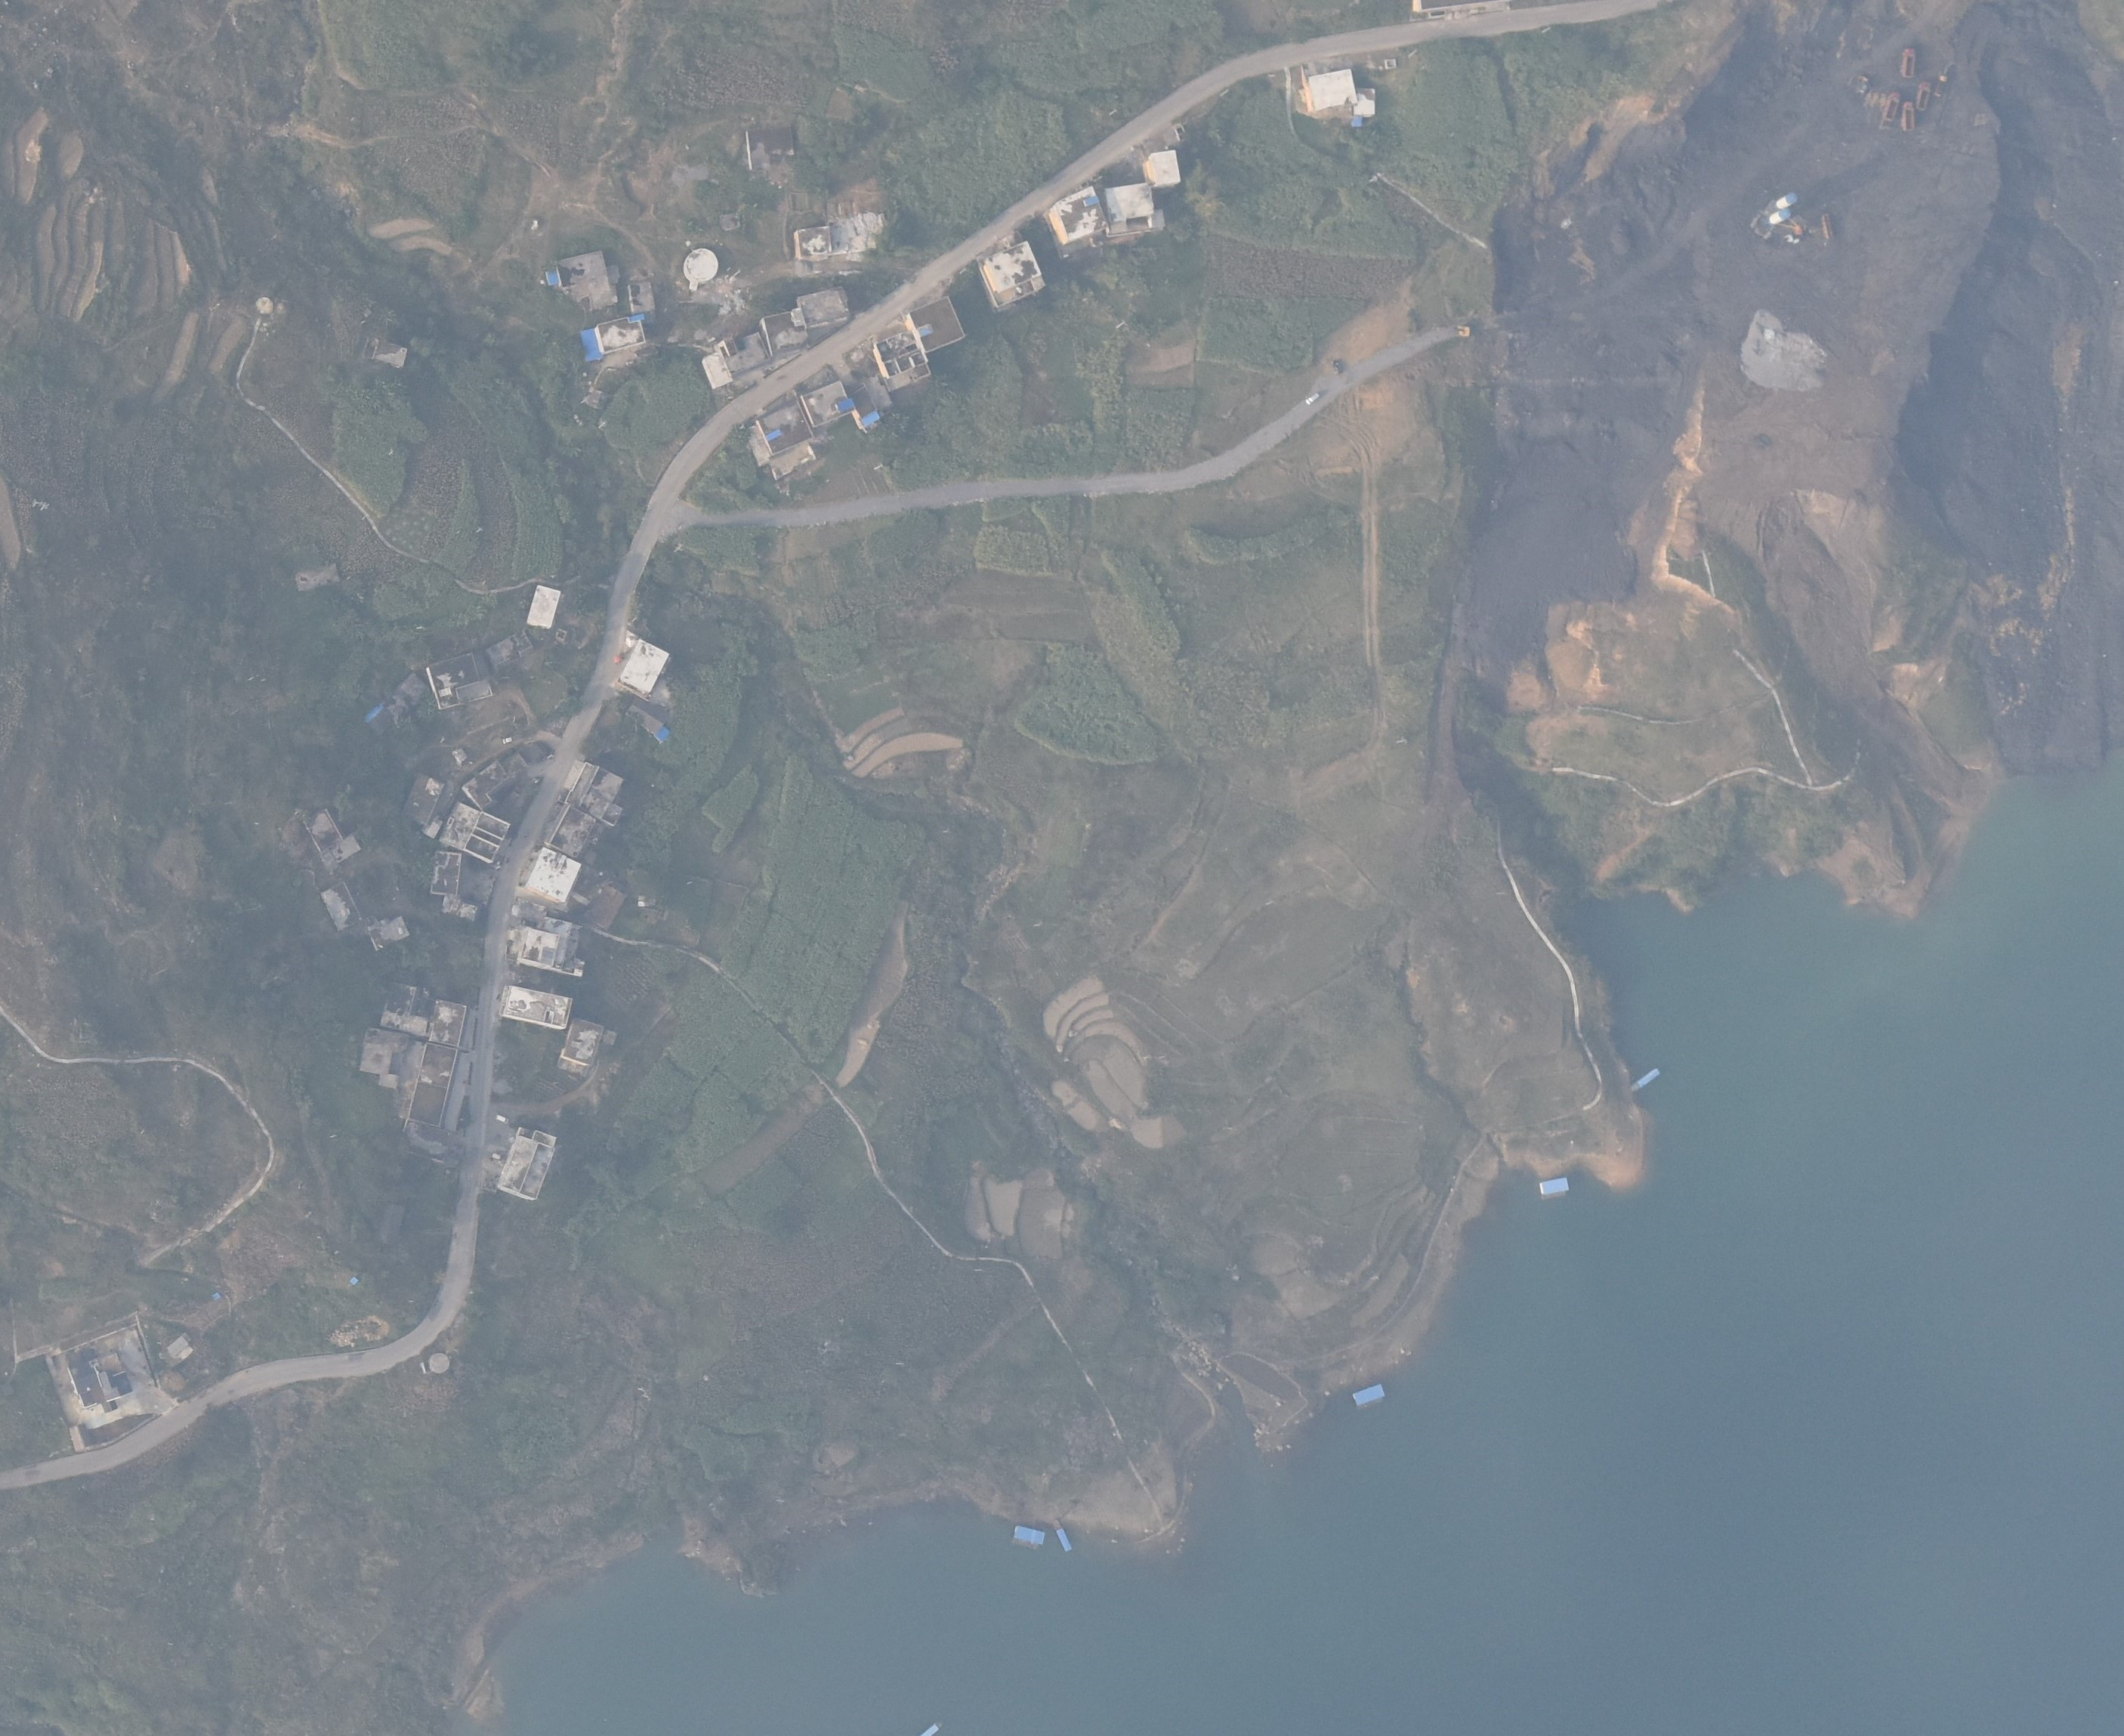building: (508, 910, 593, 974), (976, 238, 1046, 311), (438, 799, 513, 866), (499, 1124, 557, 1210), (420, 646, 496, 711), (404, 1041, 457, 1129), (72, 1351, 138, 1417), (552, 251, 619, 314), (566, 760, 626, 831), (873, 328, 935, 395), (496, 984, 573, 1034), (905, 293, 967, 353), (522, 845, 584, 905), (1050, 183, 1108, 243), (617, 635, 670, 700), (757, 400, 817, 457), (545, 801, 598, 861), (378, 981, 430, 1039), (457, 759, 513, 810), (797, 379, 856, 429), (743, 123, 803, 171), (358, 1023, 411, 1076), (757, 307, 811, 358), (559, 1016, 607, 1074), (716, 330, 773, 378), (404, 767, 446, 831), (1304, 67, 1357, 116), (318, 882, 367, 935), (797, 284, 854, 330), (393, 1120, 452, 1164), (425, 999, 469, 1050), (1104, 183, 1157, 226), (595, 316, 649, 356), (302, 806, 348, 854), (483, 632, 535, 670), (363, 914, 415, 953), (790, 222, 836, 263), (430, 847, 464, 902), (316, 833, 362, 870), (526, 584, 561, 632), (1141, 150, 1184, 189), (362, 335, 409, 369), (293, 563, 342, 595), (621, 700, 665, 736), (439, 893, 480, 921), (626, 282, 658, 314), (1355, 85, 1378, 120), (379, 1073, 397, 1090)
prefabricated-house: (1627, 1067, 1667, 1094), (1009, 1521, 1048, 1547), (1353, 1381, 1390, 1408), (1053, 1524, 1081, 1556), (1535, 1175, 1570, 1200), (579, 326, 602, 362), (654, 723, 676, 745), (543, 266, 563, 289), (859, 411, 884, 427), (833, 399, 857, 411), (1350, 113, 1367, 127), (764, 429, 783, 441)
quarry: (1468, 18, 2103, 801)
vehicle: (1898, 102, 1919, 138), (1900, 44, 1918, 85), (1884, 92, 1902, 125), (1914, 83, 1933, 113), (1932, 74, 1951, 97), (1304, 390, 1321, 406), (501, 734, 515, 746)
well: (679, 249, 722, 284), (425, 1348, 453, 1376), (252, 295, 275, 314)
